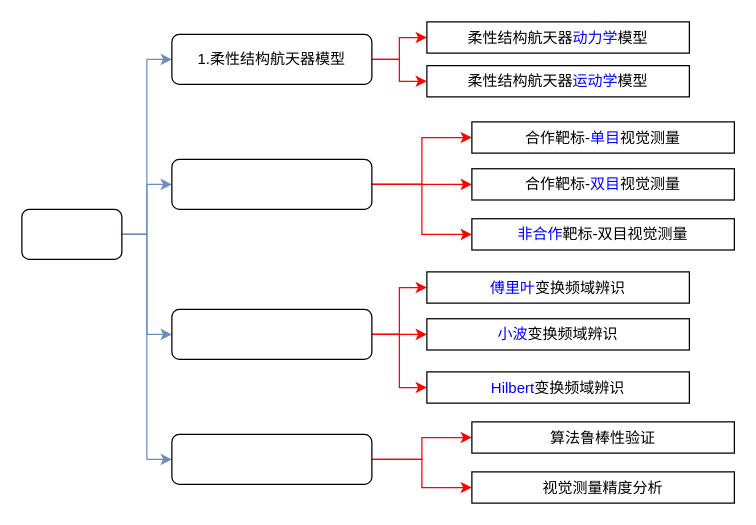
Some shapes in this 756 by 525 pixel diagram are drawn without their labels. The shapes that lost their labels are listed below. From the top down, each one's box as (x1, y1, x2, y2) in pixels, then its label:
(171, 158, 372, 209): 2.视觉测量柔性结构振动
(21, 208, 122, 259): 研究内容
(171, 308, 372, 359): 3.频域分析辨识柔性振动参数
(171, 433, 372, 484): 4.视觉系统精度分析
